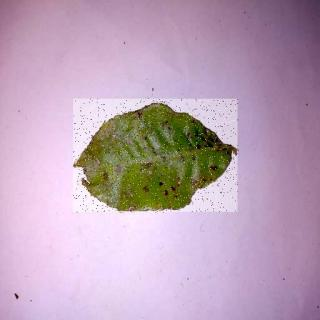Bird Eye Spot: (75, 100, 240, 214)
